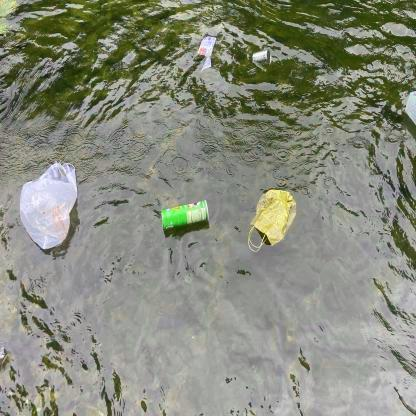Metal: (158, 197, 212, 234), (250, 46, 274, 72)
Plastic: (18, 156, 80, 260), (198, 34, 218, 74)
Trash: (245, 186, 299, 256)
